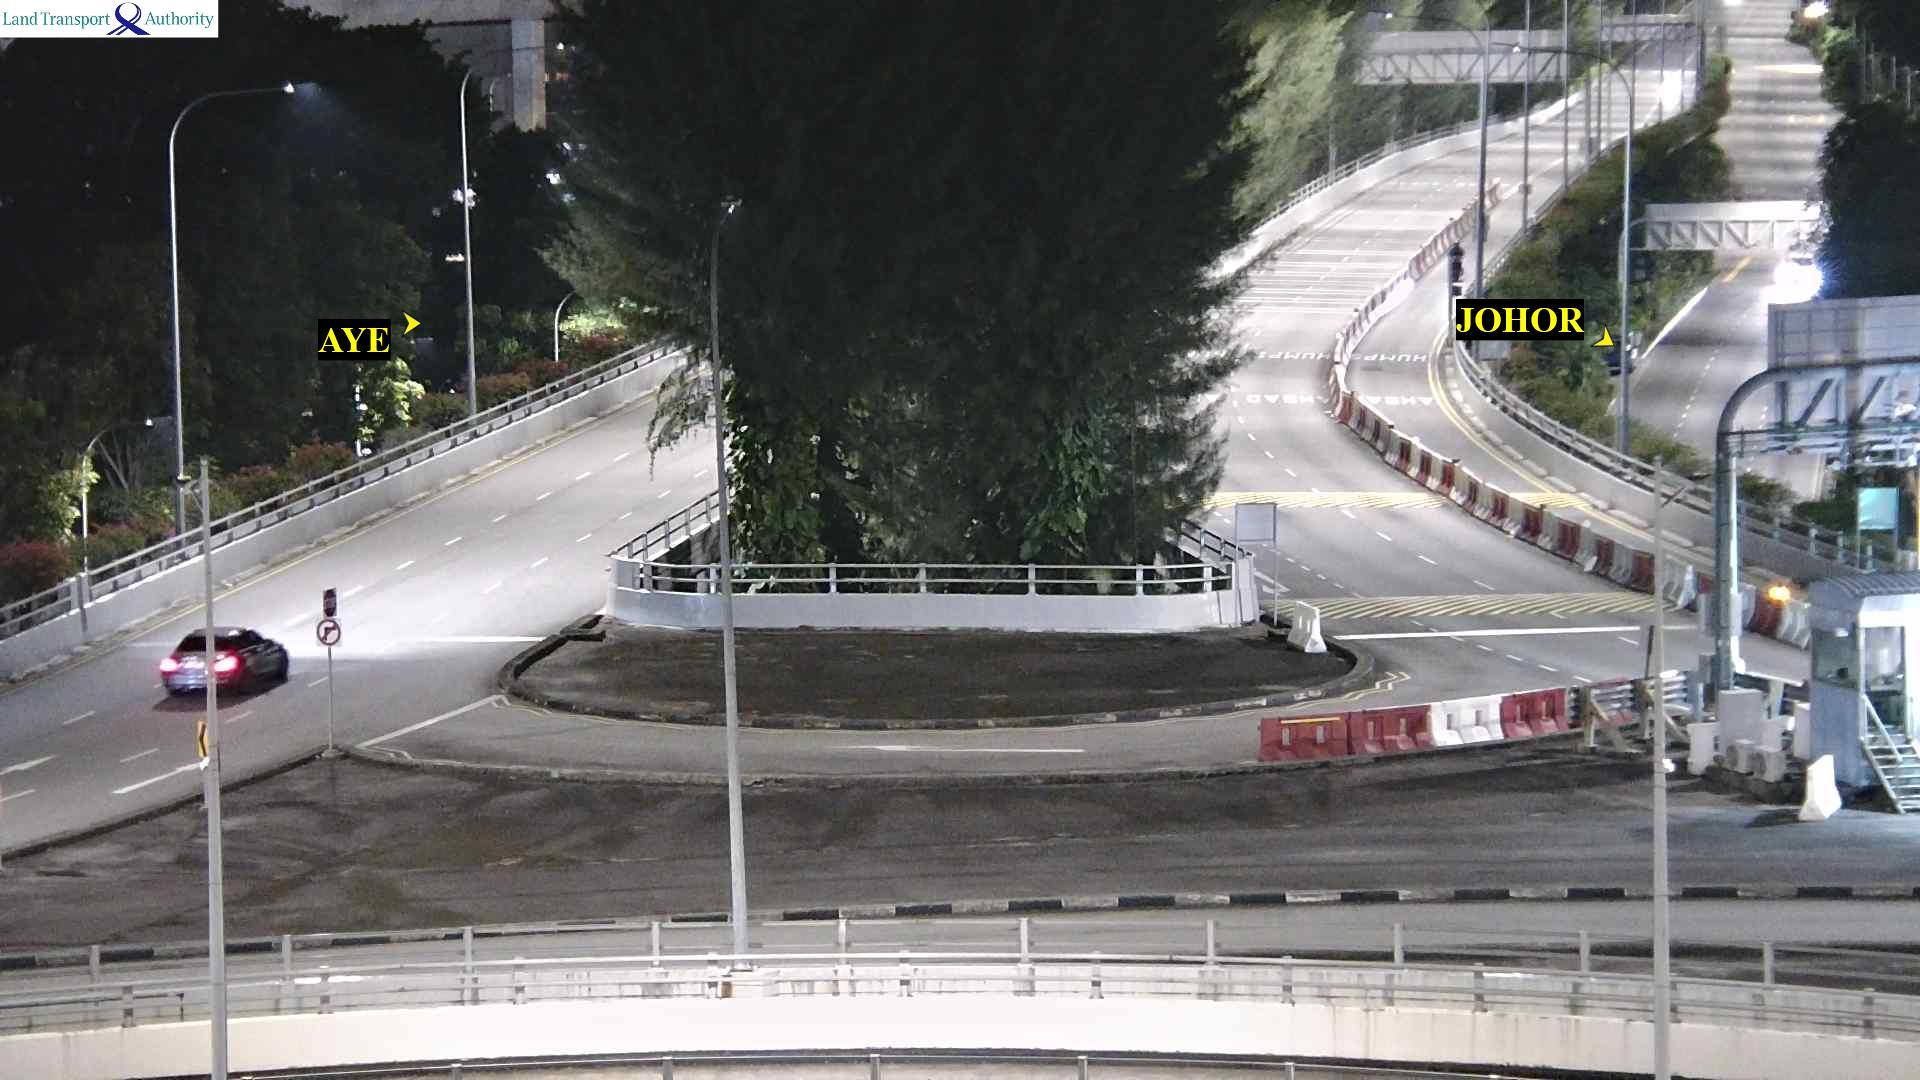vehicle-secondlink-johor: (1451, 241, 1464, 282)
vehicle-secondlink-singapore: (160, 626, 291, 696)
